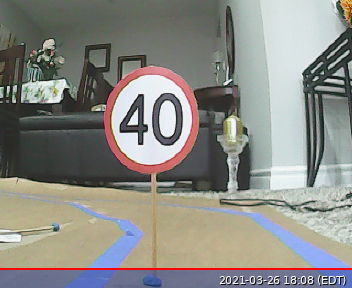Speed Limit 40: (102, 65, 199, 174)
